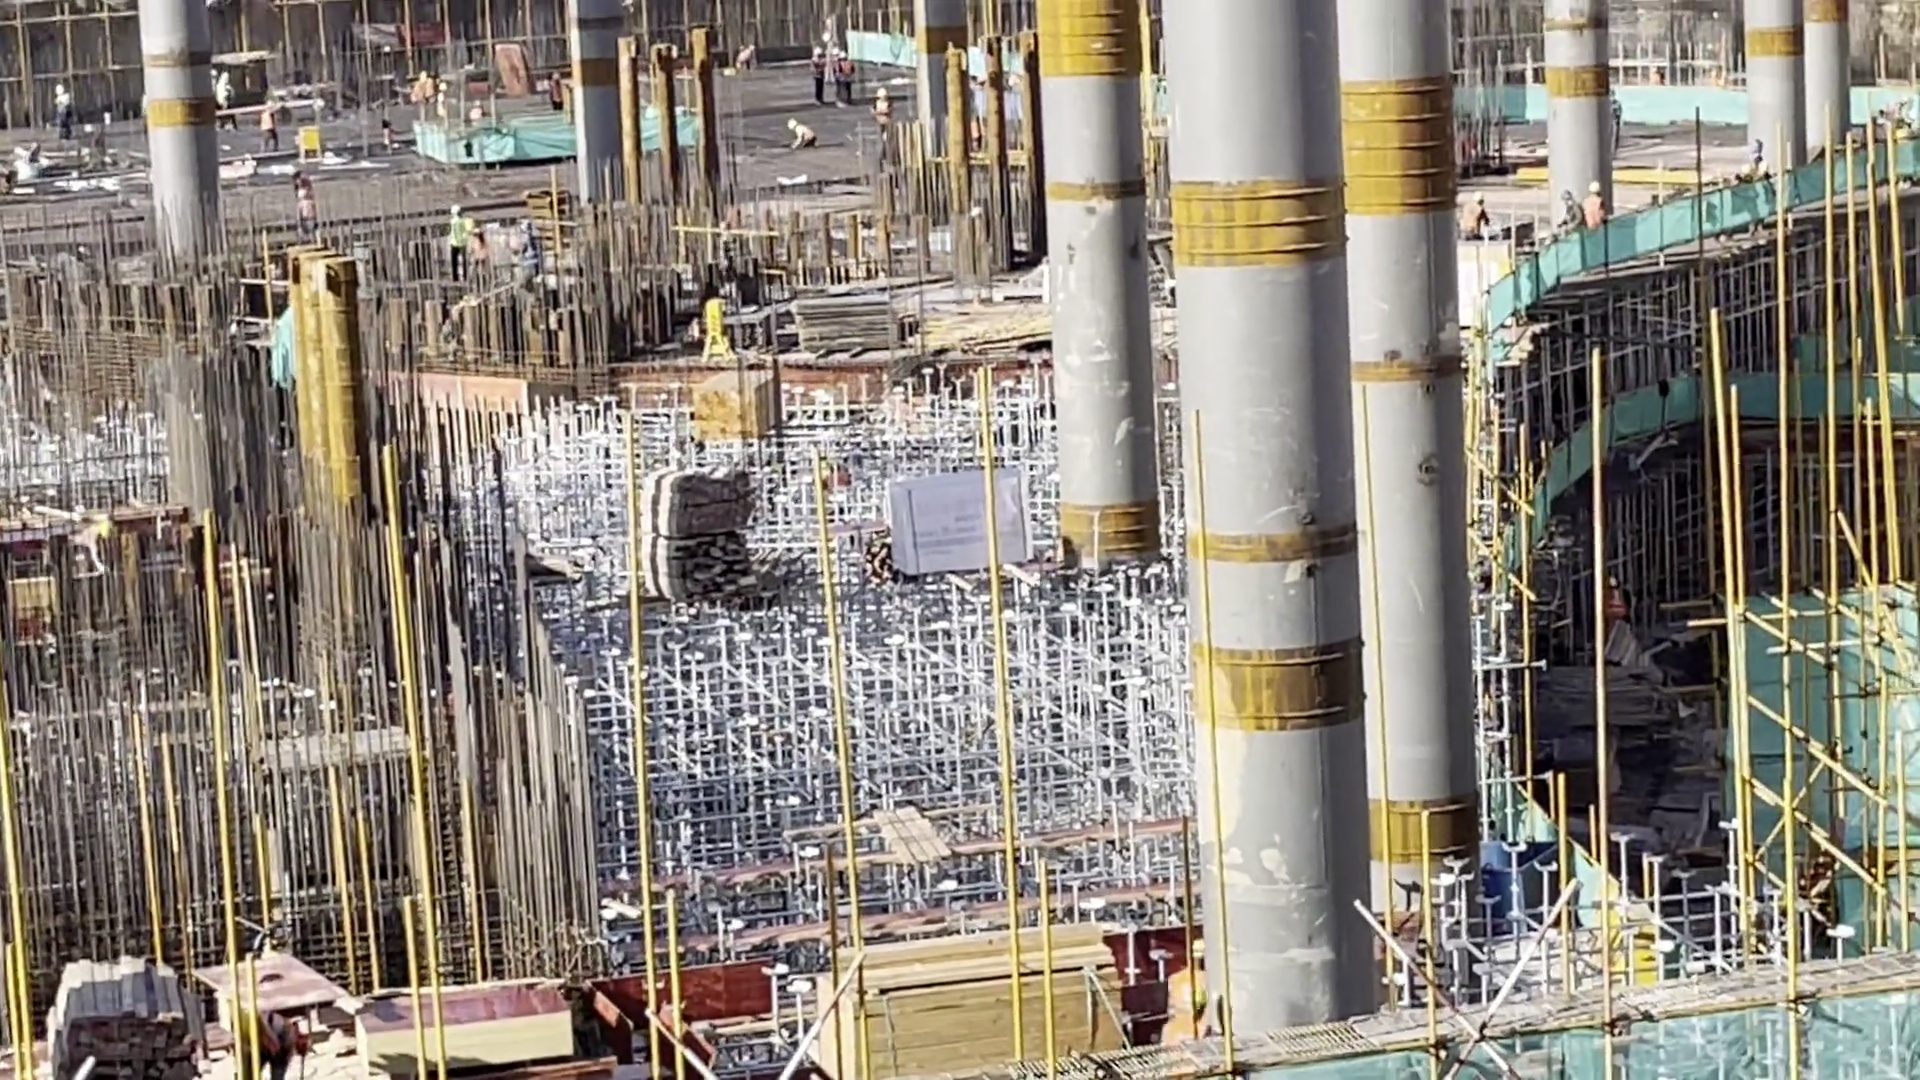board: (358, 974, 572, 1080)
cutter: (197, 947, 347, 1080)
ebox: (700, 295, 735, 365), (296, 123, 326, 161)
helmet: (1190, 937, 1204, 959)
person: (1156, 928, 1213, 1047), (449, 205, 470, 280), (1465, 188, 1491, 245), (1747, 136, 1772, 188), (872, 84, 890, 147), (54, 82, 73, 141), (260, 101, 281, 152), (786, 119, 818, 151), (1583, 179, 1606, 221), (812, 45, 827, 109), (546, 70, 563, 114), (737, 43, 755, 65)
vest: (1168, 970, 1210, 1041)
wood: (815, 920, 1129, 1080), (44, 954, 208, 1080), (640, 465, 772, 614), (692, 363, 781, 446)
